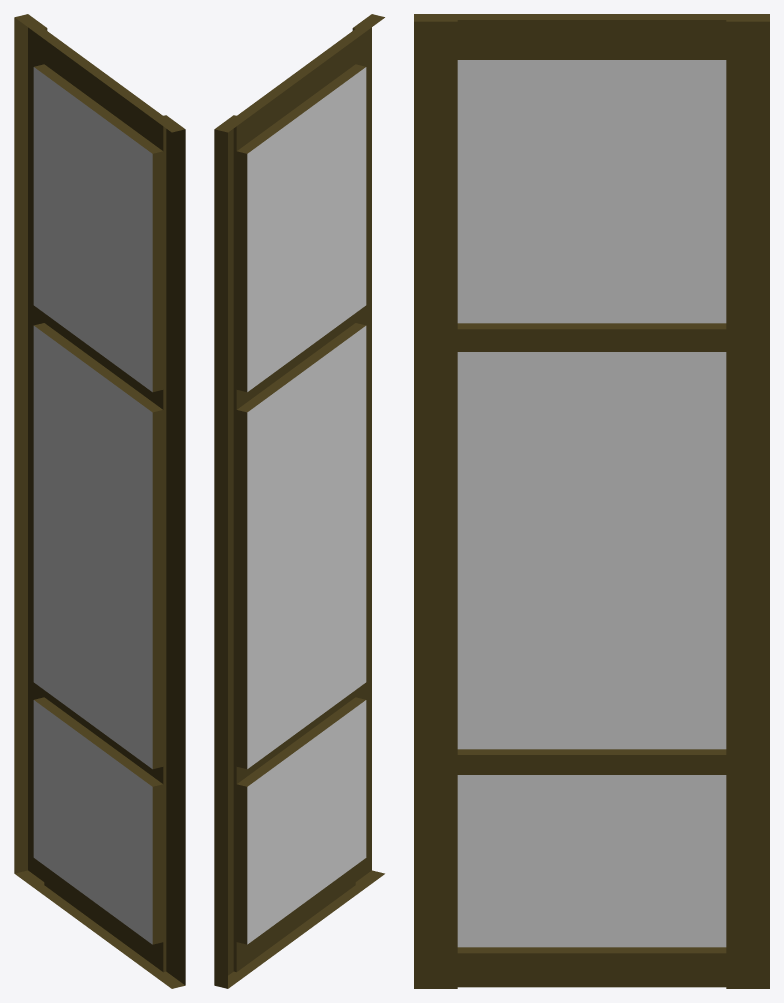
Rendered from GB_Wall_2Stripe_1M_V1.fbx.
The picture shows the model from 3 angles, left to right: view 1: azimuth 30°, elevation 25°; view 2: azimuth 150°, elevation 25°; view 3: azimuth 270°, elevation 25°; orthographic projection. The views are drawn at different scales.
Parts seen in each view (by area): view 1: HalfWall_Plaster; view 2: HalfWall_Plaster; view 3: HalfWall_Plaster.
Boxes of the visible parts, <box> form: HalfWall_Plaster: <box>14,14,185,988</box>; HalfWall_Plaster: <box>214,14,384,988</box>; HalfWall_Plaster: <box>414,14,769,988</box>.
Size of the model in its own units: 0.05 by 3 by 1.
